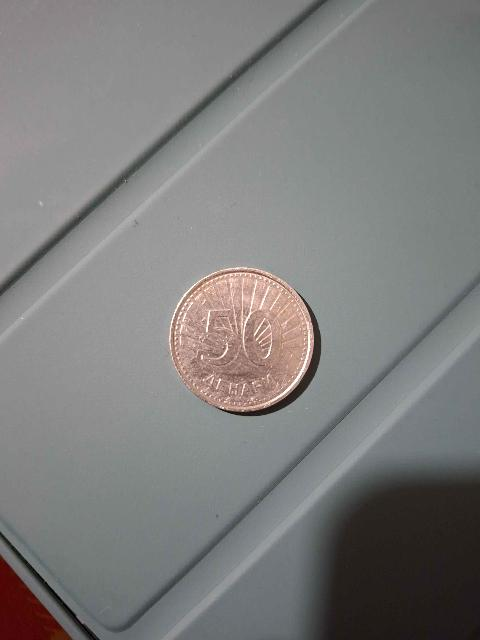coin: (170, 268, 313, 411)
